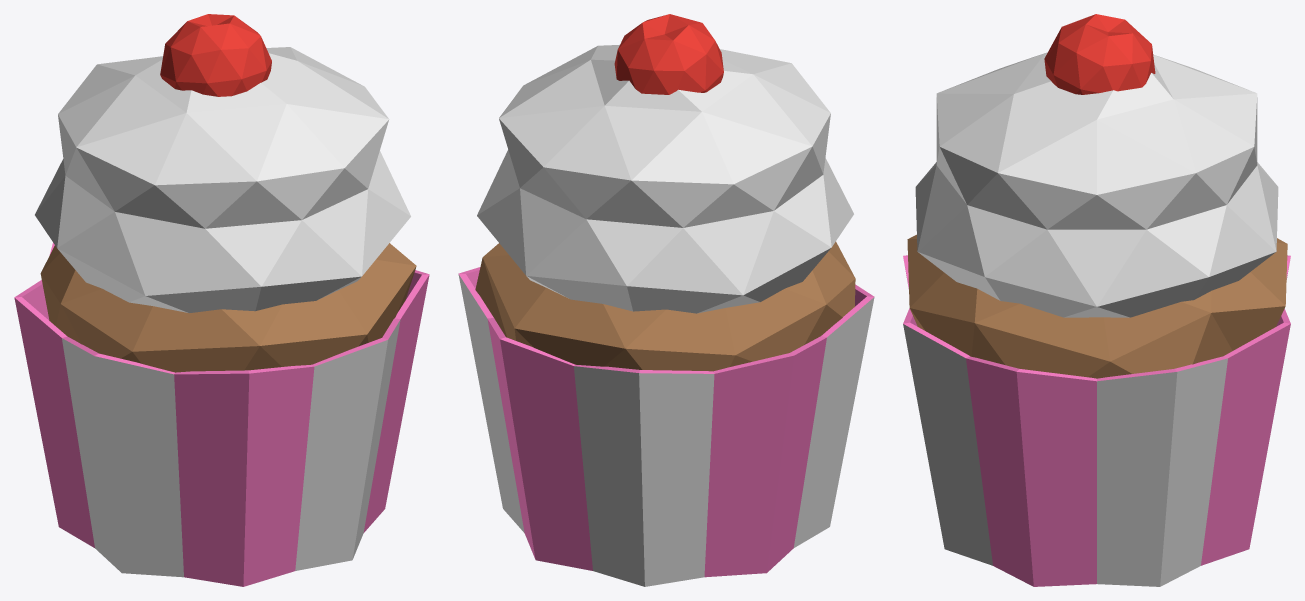
The model's file is SM_Food_Cupcake_01.fbx.
The picture shows the model from 3 angles, left to right: view 1: azimuth 30°, elevation 25°; view 2: azimuth 150°, elevation 25°; view 3: azimuth 270°, elevation 25°; orthographic projection.
Visible parts, largest first — view 1: SM_Food_Cupcake_01; view 2: SM_Food_Cupcake_01; view 3: SM_Food_Cupcake_01.
Boxes of the visible parts, <box> form: SM_Food_Cupcake_01: <box>14,14,429,586</box>; SM_Food_Cupcake_01: <box>458,14,874,586</box>; SM_Food_Cupcake_01: <box>903,14,1290,586</box>.
Size of the model in its own units: 9.15 by 13 by 9.15.
